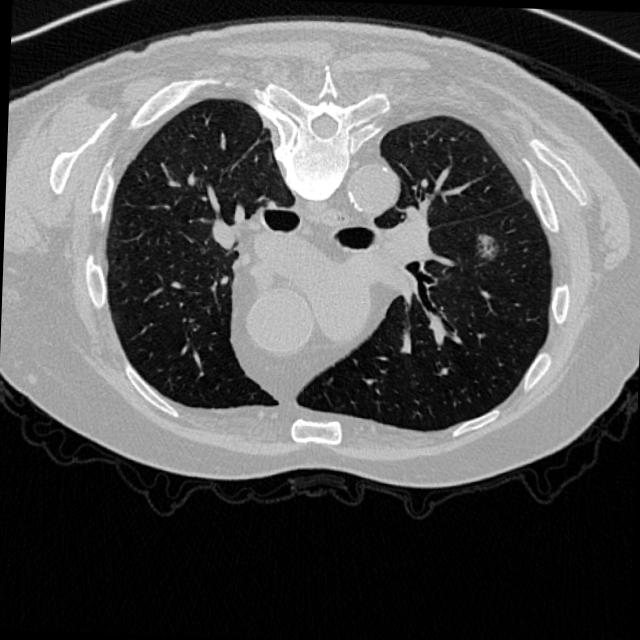nodule: (458, 220, 510, 272)
